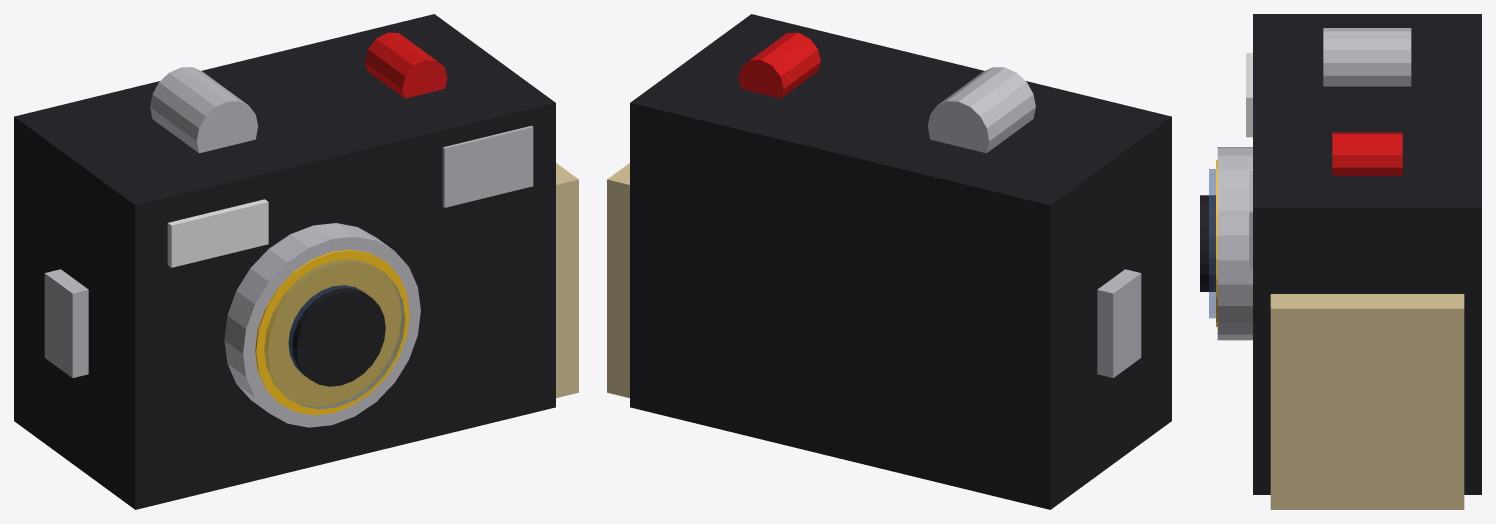
Rendered from Camera.fbx.
3 views of the same model, side by side, from view 1: azimuth 30°, elevation 25°; view 2: azimuth 150°, elevation 25°; view 3: azimuth 270°, elevation 25° (orthographic). The views are drawn at different scales.
Visible parts, largest first — view 1: Body, LensGold, LensRim, LensGlass, LensInner, Dial, VFRim, Grip, Flash, LugL, Shutter; view 2: Body, Dial, Grip, LugL, Shutter; view 3: Body, Grip, LensRim, Dial, Shutter, LensInner, LensGlass, Flash, VFRim, LensGold.
Part boxes in pixels (bbox=[...]): Body: bbox=[14, 14, 555, 509]; LensGold: bbox=[255, 249, 409, 415]; LensRim: bbox=[224, 223, 420, 427]; LensGlass: bbox=[264, 259, 405, 409]; LensInner: bbox=[288, 285, 385, 386]; Dial: bbox=[150, 67, 258, 153]; VFRim: bbox=[442, 125, 533, 207]; Grip: bbox=[556, 163, 578, 397]; Flash: bbox=[167, 199, 268, 267]; LugL: bbox=[44, 269, 88, 377]; Shutter: bbox=[365, 32, 447, 98]; Body: bbox=[630, 14, 1171, 509]; Dial: bbox=[927, 67, 1035, 153]; Grip: bbox=[607, 163, 629, 397]; LugL: bbox=[1097, 269, 1141, 377]; Shutter: bbox=[738, 32, 820, 98]; Body: bbox=[1253, 14, 1481, 494]; Grip: bbox=[1270, 294, 1464, 509]; LensRim: bbox=[1217, 147, 1252, 340]; Dial: bbox=[1323, 28, 1411, 86]; Shutter: bbox=[1332, 132, 1402, 175]; LensInner: bbox=[1200, 195, 1215, 291]; LensGlass: bbox=[1209, 169, 1215, 318]; Flash: bbox=[1246, 53, 1252, 137]; VFRim: bbox=[1249, 171, 1252, 268]; LensGold: bbox=[1216, 160, 1217, 326].
Bounding box in the file's own units: 58 × 41.3 × 32.
Materials: 7 (7 with a texture image).
